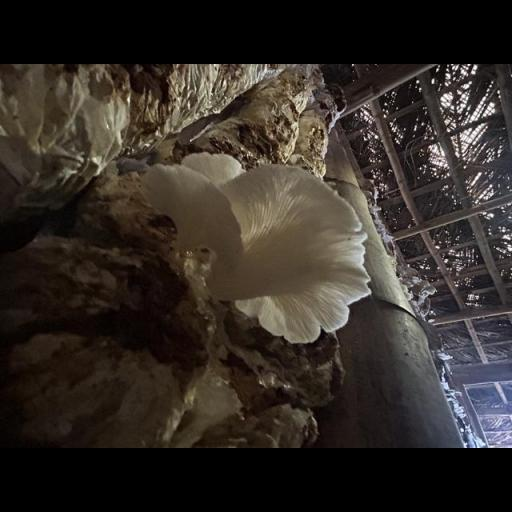White Oyster Mushroom: (136, 144, 375, 346)
